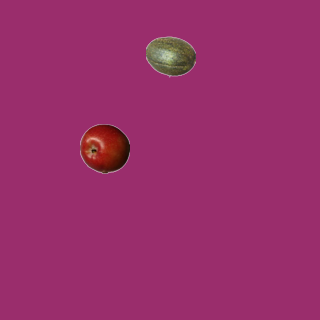Apple Braeburn: (79, 123, 129, 173)
Melon Piel de Sapo: (145, 31, 195, 81)
